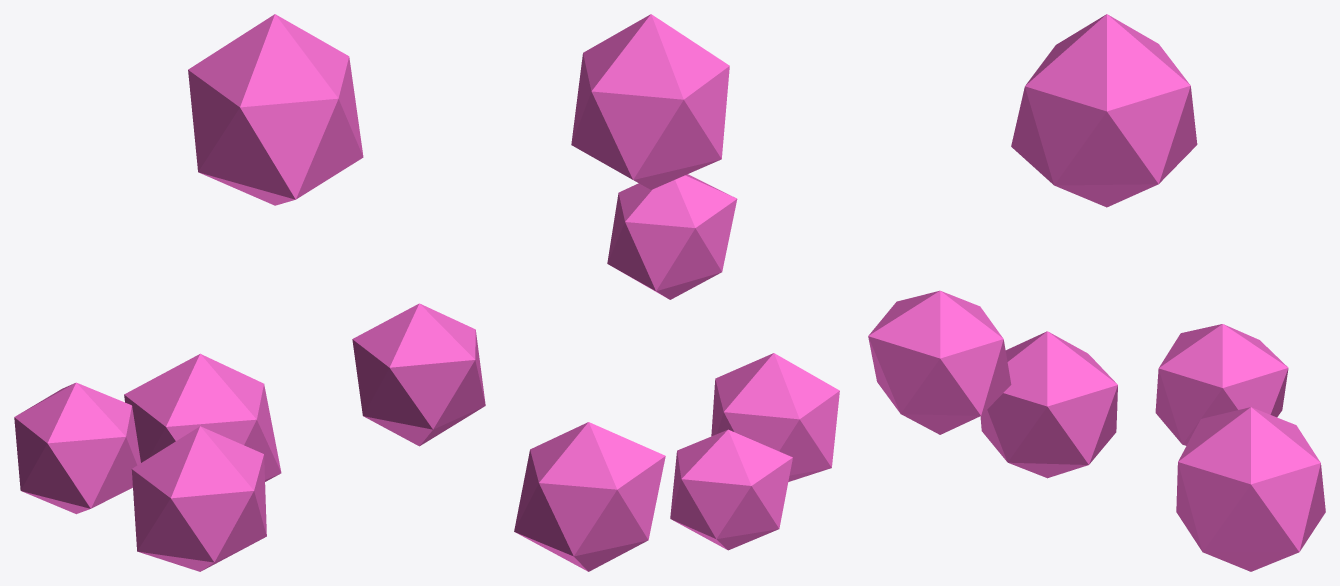
File: plant_bulb_glow_pink_glow.fbx
The picture shows the model from 3 angles, left to right: view 1: azimuth 30°, elevation 25°; view 2: azimuth 150°, elevation 25°; view 3: azimuth 270°, elevation 25°; orthographic projection. The views are drawn at different scales.
Parts seen in each view (by area): view 1: plant_bulb_glow_pink_glow; view 2: plant_bulb_glow_pink_glow; view 3: plant_bulb_glow_pink_glow.
Boxes of the visible parts, x1=… form: plant_bulb_glow_pink_glow: x1=14, y1=14, x2=485, y2=571; plant_bulb_glow_pink_glow: x1=514, y1=14, x2=839, y2=571; plant_bulb_glow_pink_glow: x1=868, y1=14, x2=1325, y2=571.
Bounding box in the file's own units: 383 × 643 × 477.
Materials: 1 (1 with a texture image).
